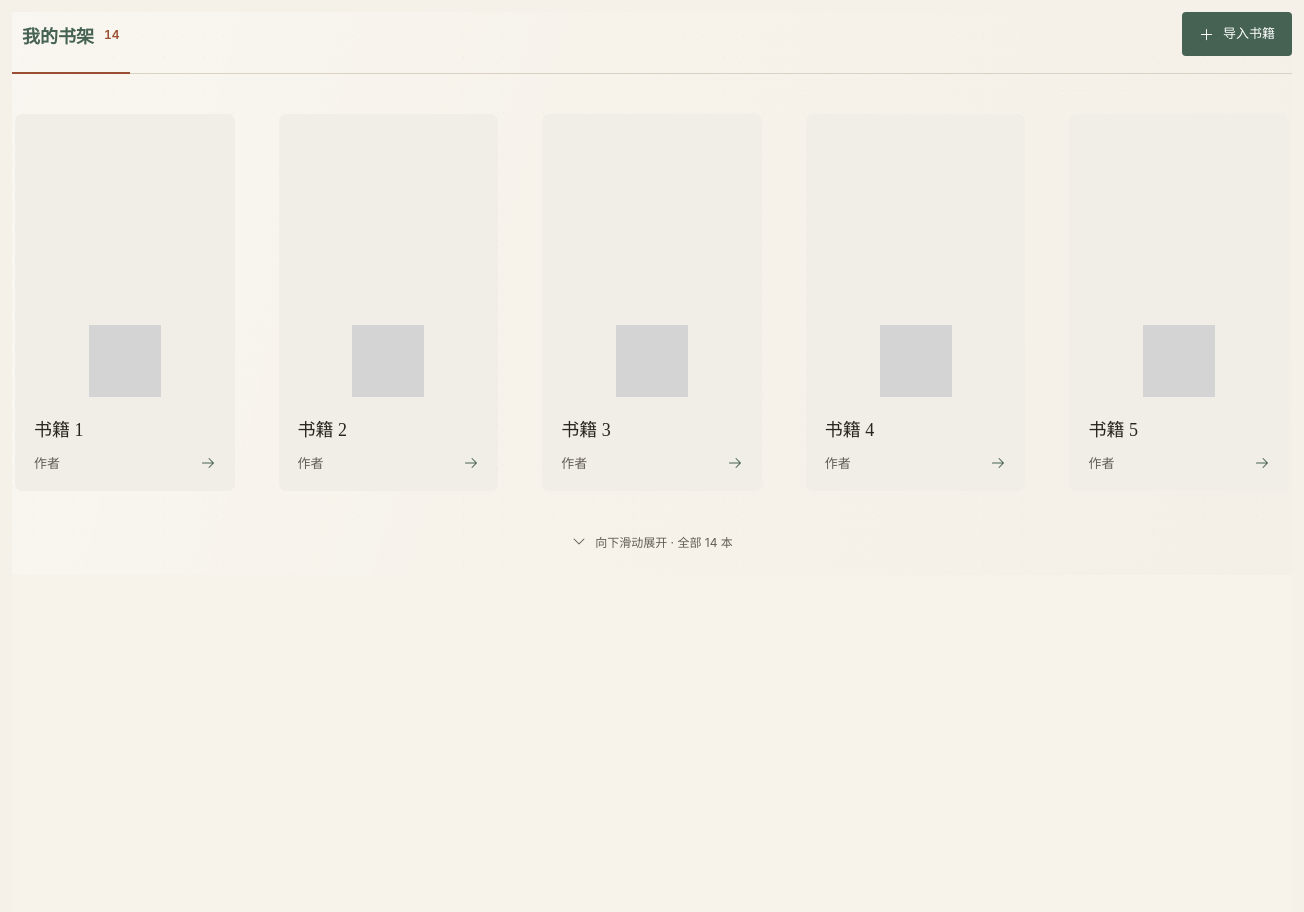
Test: AnalyzedBookShelf › unfolds with a downward touch without opening the touched book
Later steps or results of the test are not shown.
Step 1. Press the mouse on the link "书籍 1 作者" → x=125, y=302, box left=15, top=114, right=235, bottom=491
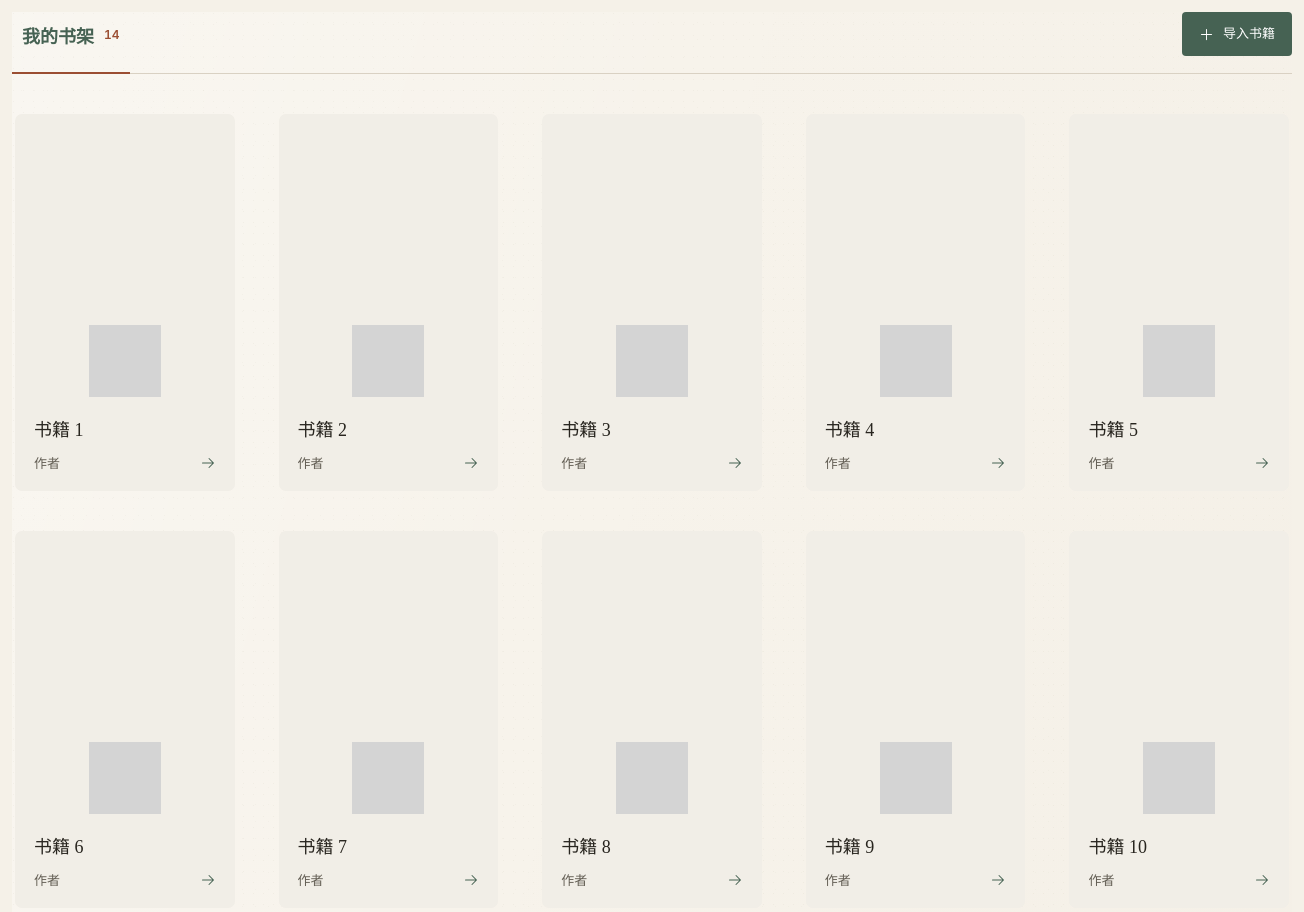
Result: the number of links is 14
